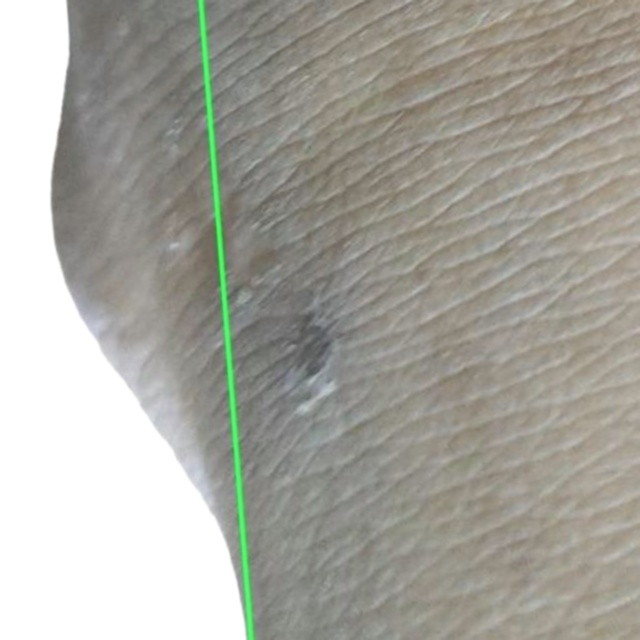Scabies: (0, 0, 251, 639)
